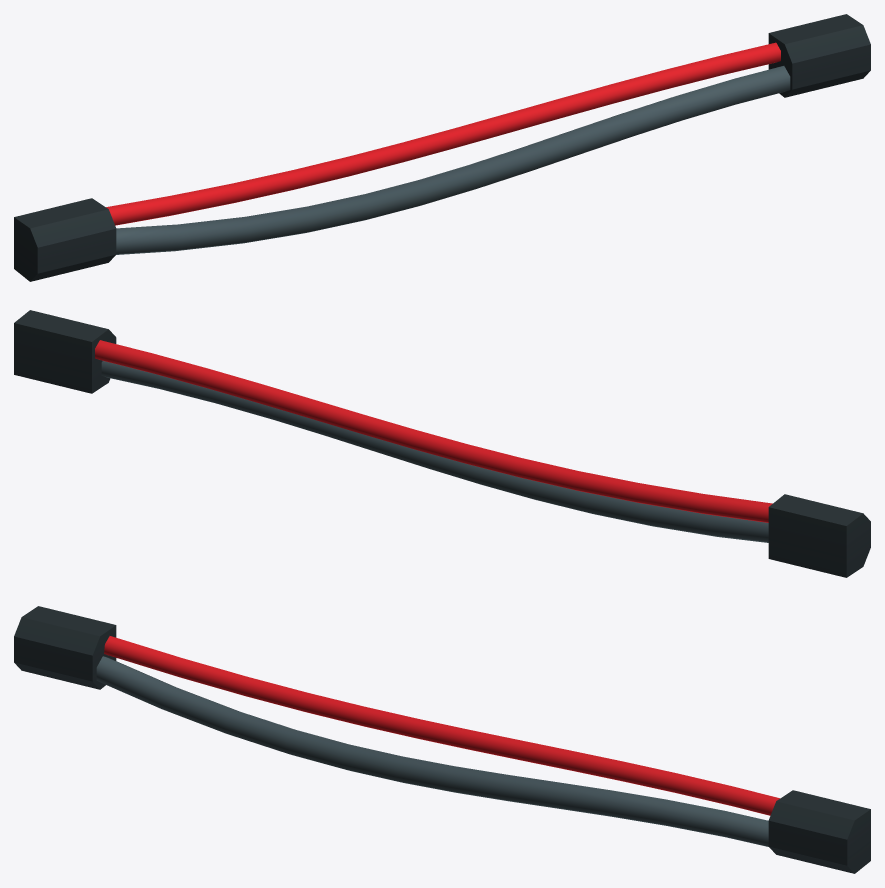
File: Cable_type_A_001.glb
3 renders of one model, top to bottom at view 1: azimuth 30°, elevation 25°; view 2: azimuth 150°, elevation 25°; view 3: azimuth 330°, elevation 25°, orthographic.
Visible parts, largest first — view 1: Cable_type_A_001; view 2: Cable_type_A_001; view 3: Cable_type_A_001.
Part boxes in pixels (left/top/right/bottom): Cable_type_A_001: left=14, top=14, right=870, bottom=281; Cable_type_A_001: left=14, top=310, right=870, bottom=577; Cable_type_A_001: left=14, top=606, right=870, bottom=873.
Bounding box in the file's own units: 1.66 × 0.1332 × 0.0929.
1 material, 1 textured.
